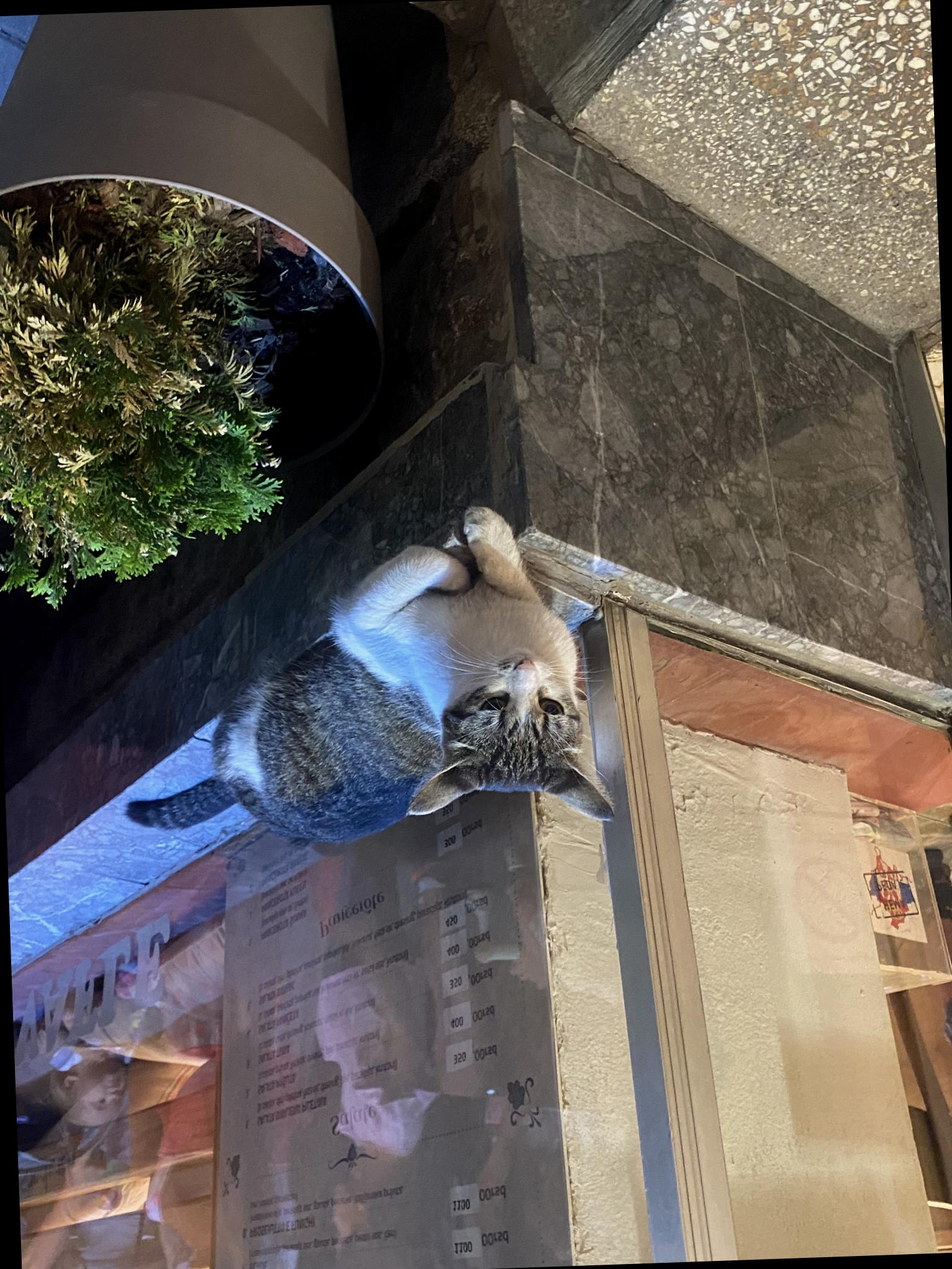macka: (117, 500, 616, 851)
